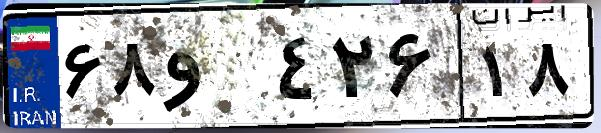1: (475, 38, 525, 113)
2: (330, 28, 385, 110)
4: (270, 28, 330, 110)
6: (385, 28, 445, 110), (57, 26, 110, 100)
8: (525, 38, 570, 115), (110, 28, 158, 98)
و: (158, 20, 270, 120)
